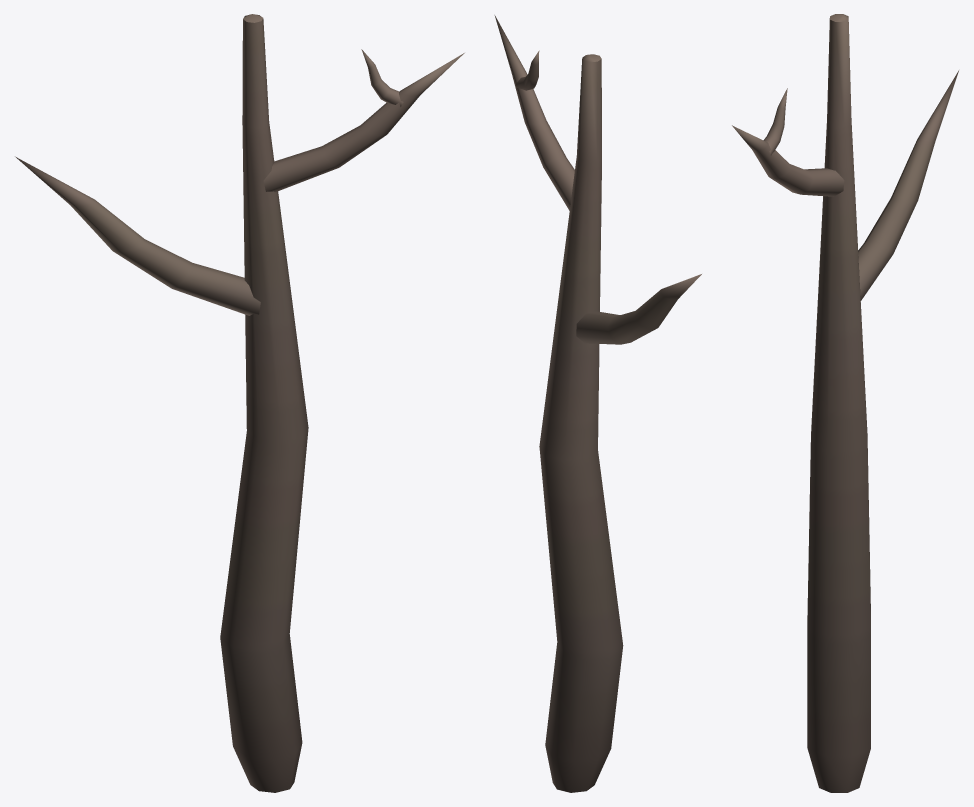
The model's file is dead_large.glb.
The picture shows the model from 3 angles, left to right: view 1: azimuth 30°, elevation 25°; view 2: azimuth 150°, elevation 25°; view 3: azimuth 270°, elevation 25°; orthographic projection. The views are drawn at different scales.
Parts seen in each view (by area): view 1: tree_dead_large; view 2: tree_dead_large; view 3: tree_dead_large.
Boxes of the visible parts, box(x1,y1,x2,y2) form: tree_dead_large: box(15, 14, 464, 792); tree_dead_large: box(494, 15, 701, 792); tree_dead_large: box(732, 14, 958, 792).
Size of the model in its own units: 2.3 by 5.07 by 1.38.
1 material, 1 textured.
